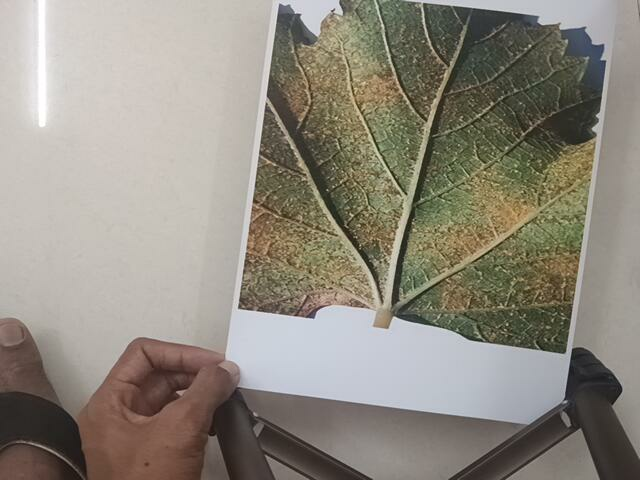Grape_Rust_Fungus: (336, 24, 567, 349)
